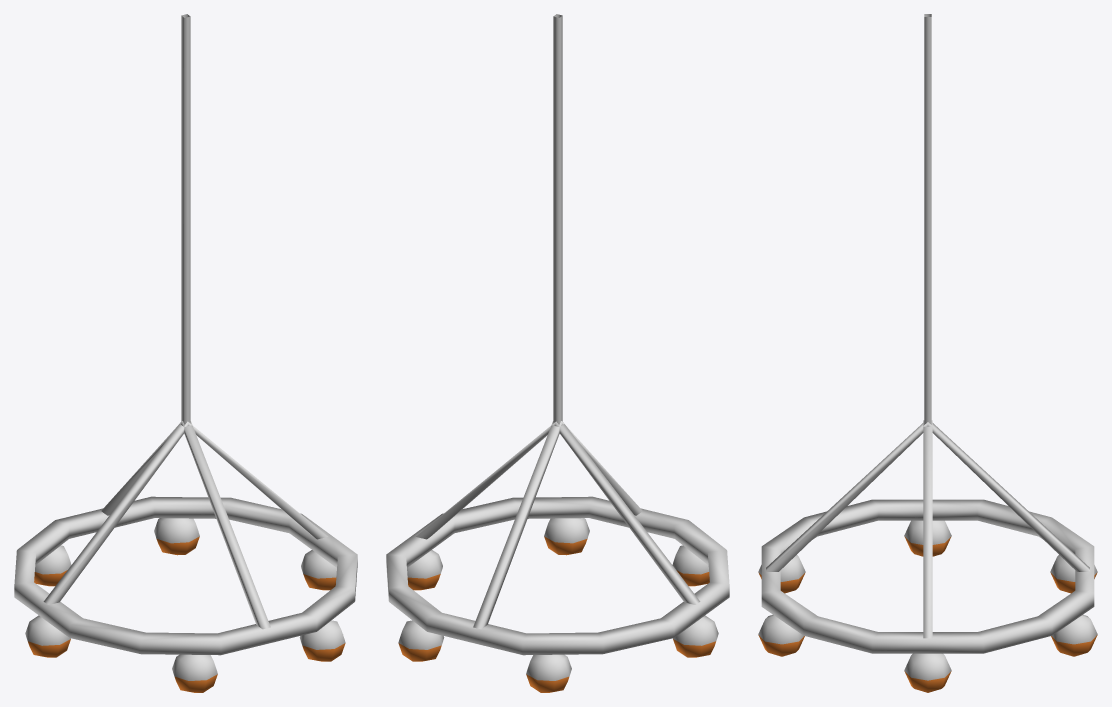
The model's file is Light_Uv_MultySubObject.FBX.
The picture shows the model from 3 angles, left to right: view 1: azimuth 30°, elevation 25°; view 2: azimuth 150°, elevation 25°; view 3: azimuth 270°, elevation 25°; orthographic projection.
Visible parts, largest first — view 1: Light_Uv; view 2: Light_Uv; view 3: Light_Uv.
Boxes of the visible parts, x1,y1,x2,y2 form: Light_Uv: [14, 14, 357, 692]; Light_Uv: [386, 14, 729, 692]; Light_Uv: [758, 14, 1097, 692].
Bounding box in the file's own units: 36.01 × 66.05 × 33.37.
